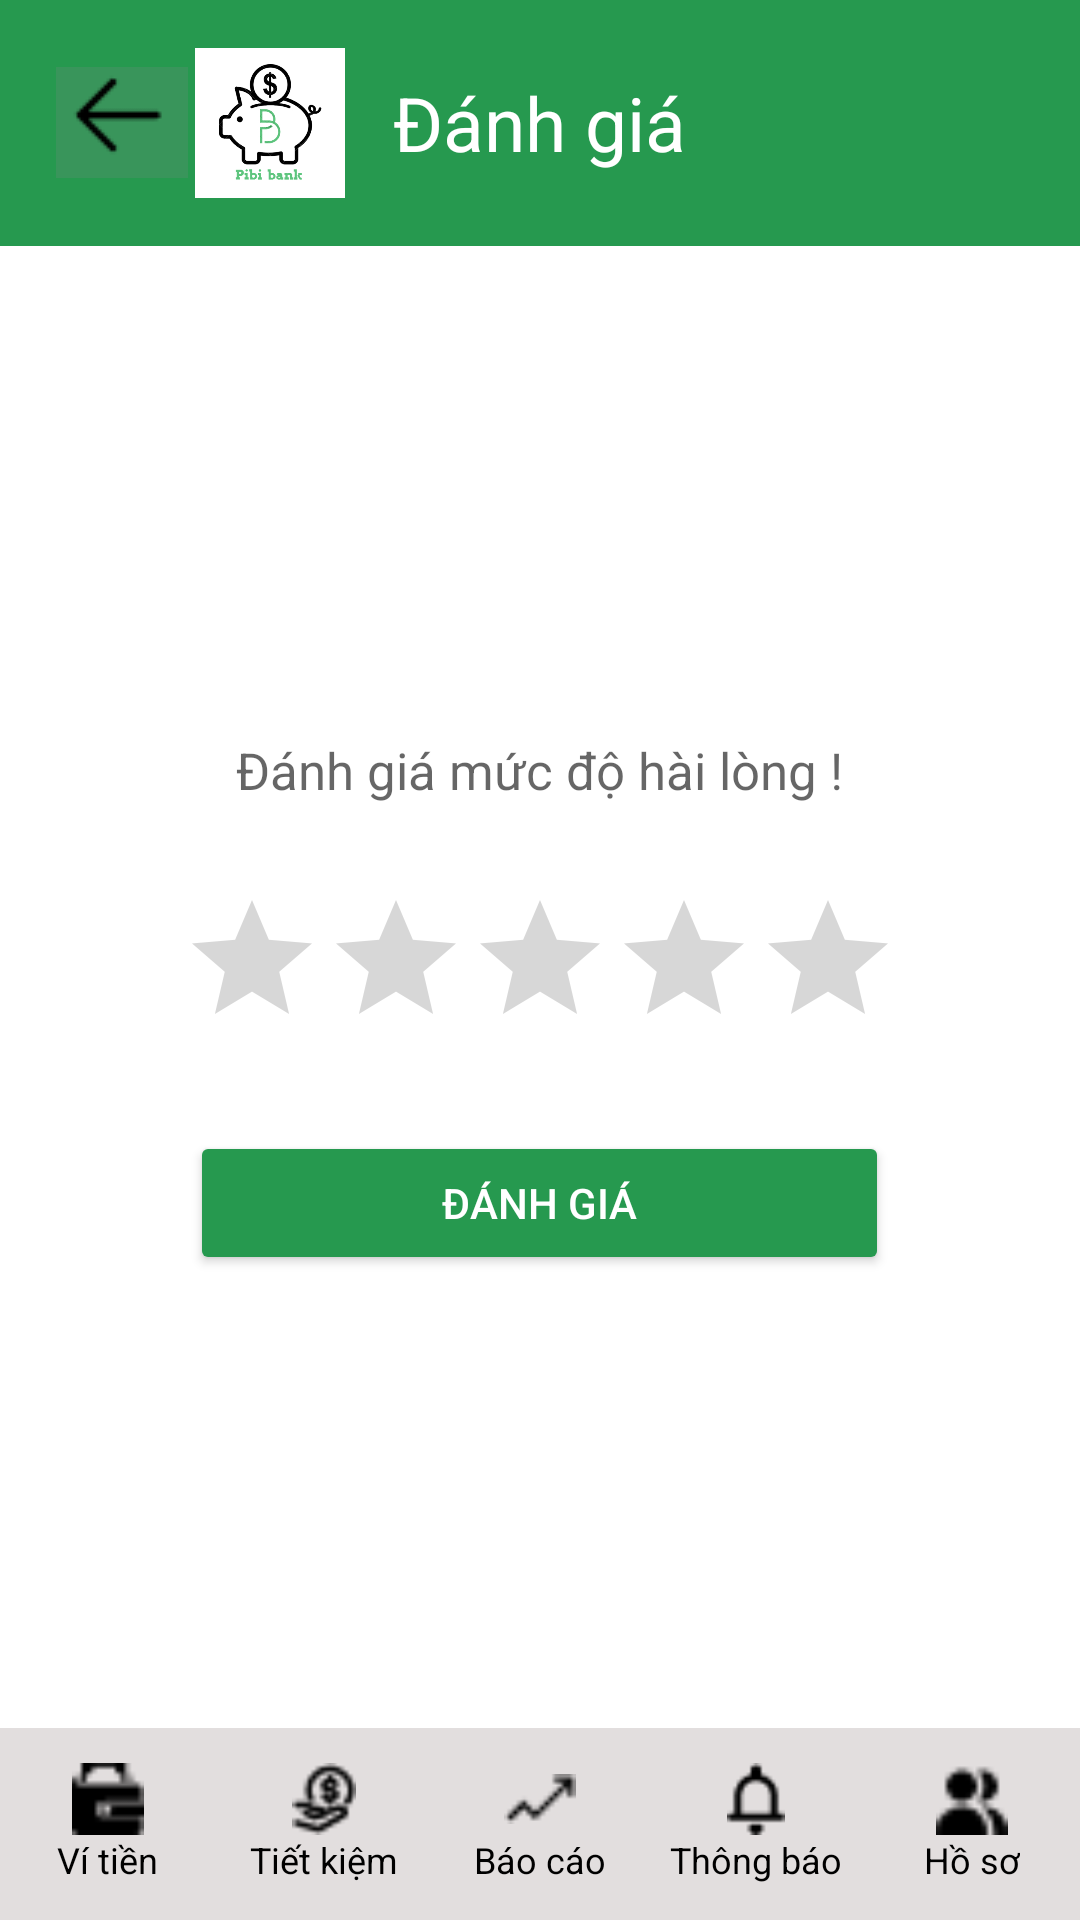

Icon click points for this 1080 x 1920 phone screenshot, format point (x, y):
muiten: point (122, 122)
